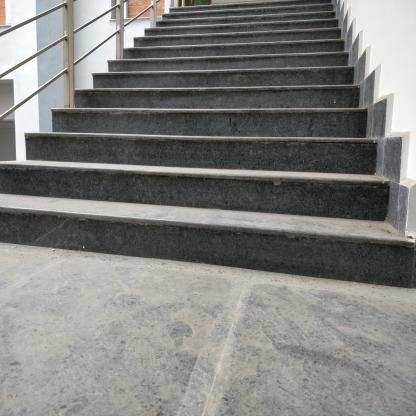stairs: (172, 5, 332, 286)
